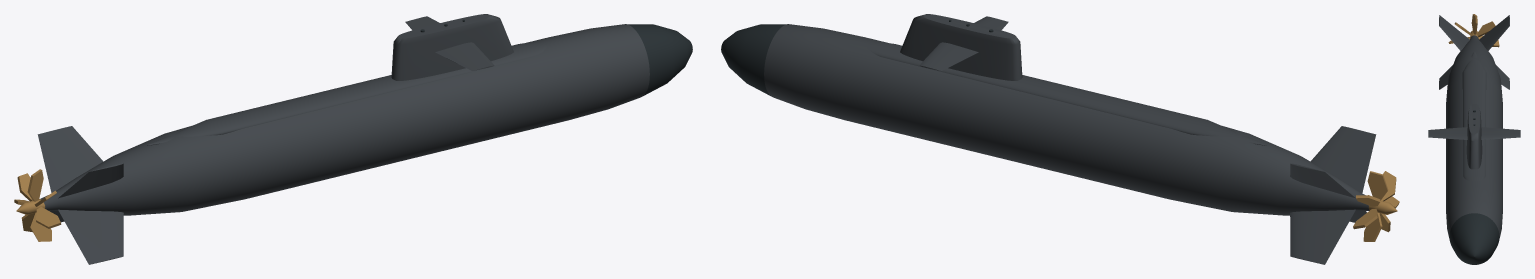
Rendered from jmsdf_ssk_taigei.glb.
The picture shows the model from 3 angles, left to right: view 1: azimuth 30°, elevation 25°; view 2: azimuth 150°, elevation 25°; view 3: azimuth 270°, elevation 25°; orthographic projection. The views are drawn at different scales.
Visible parts, largest first — view 1: submarine_coating, boot_topping, bronze; view 2: submarine_coating, boot_topping, bronze; view 3: submarine_coating, boot_topping, bronze.
Boxes of the visible parts, box(x1,y1,x2,y2) form: submarine_coating: box(37, 14, 649, 264); boot_topping: box(420, 19, 692, 95); bronze: box(14, 169, 61, 241); submarine_coating: box(764, 14, 1376, 264); boot_topping: box(721, 19, 993, 95); bronze: box(1353, 171, 1399, 241); submarine_coating: box(1428, 15, 1520, 238); boot_topping: box(1449, 110, 1499, 264); bronze: box(1448, 14, 1499, 47).
Bounding box in the file's own units: 10 × 1.82 × 1.72.
